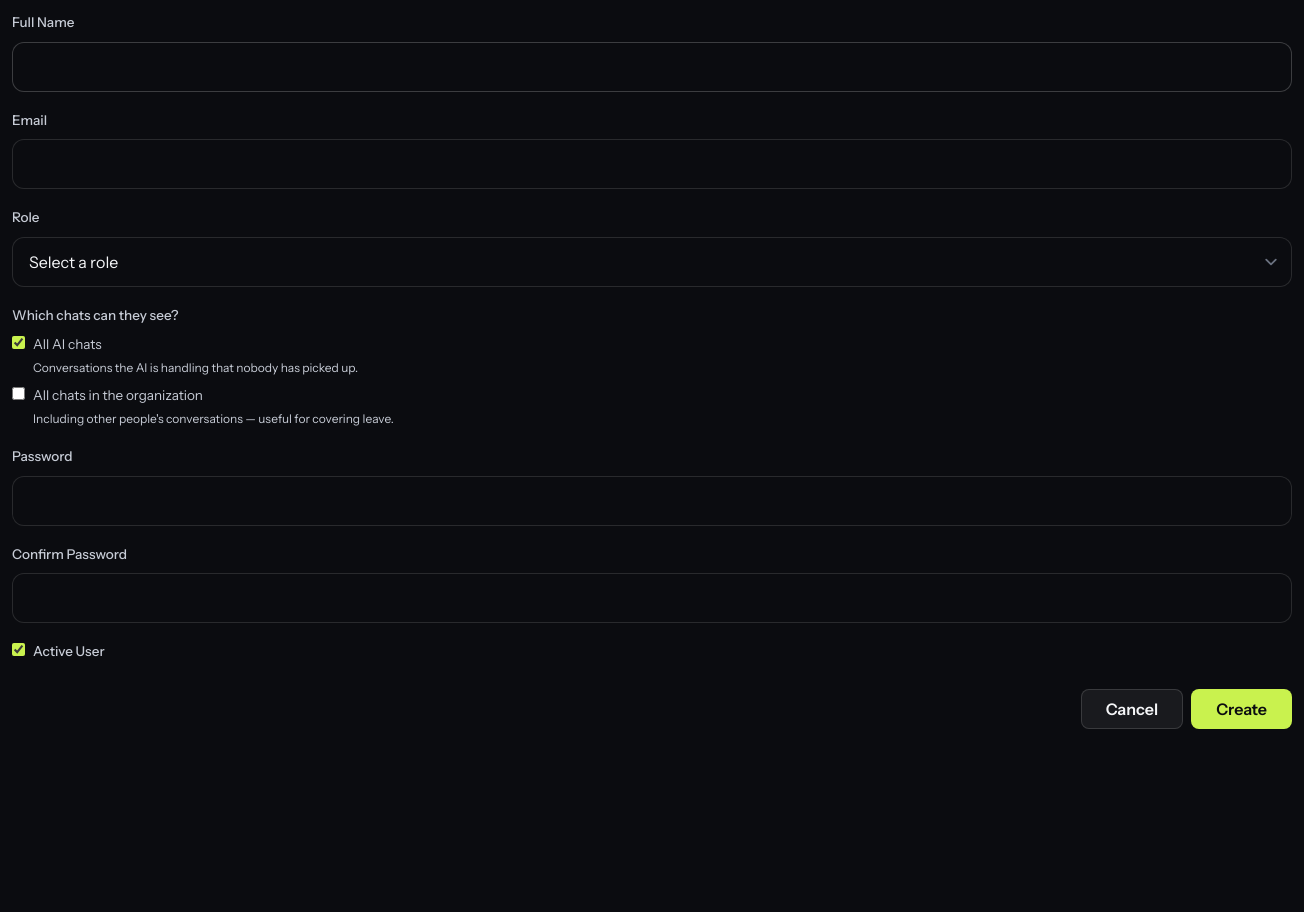
Test case: UserForm – chat scope toggles › unticks both for a role that grants nothing
Select "Agent" in the dropdown with id "role" at [652, 262], box [12, 237, 1292, 287]
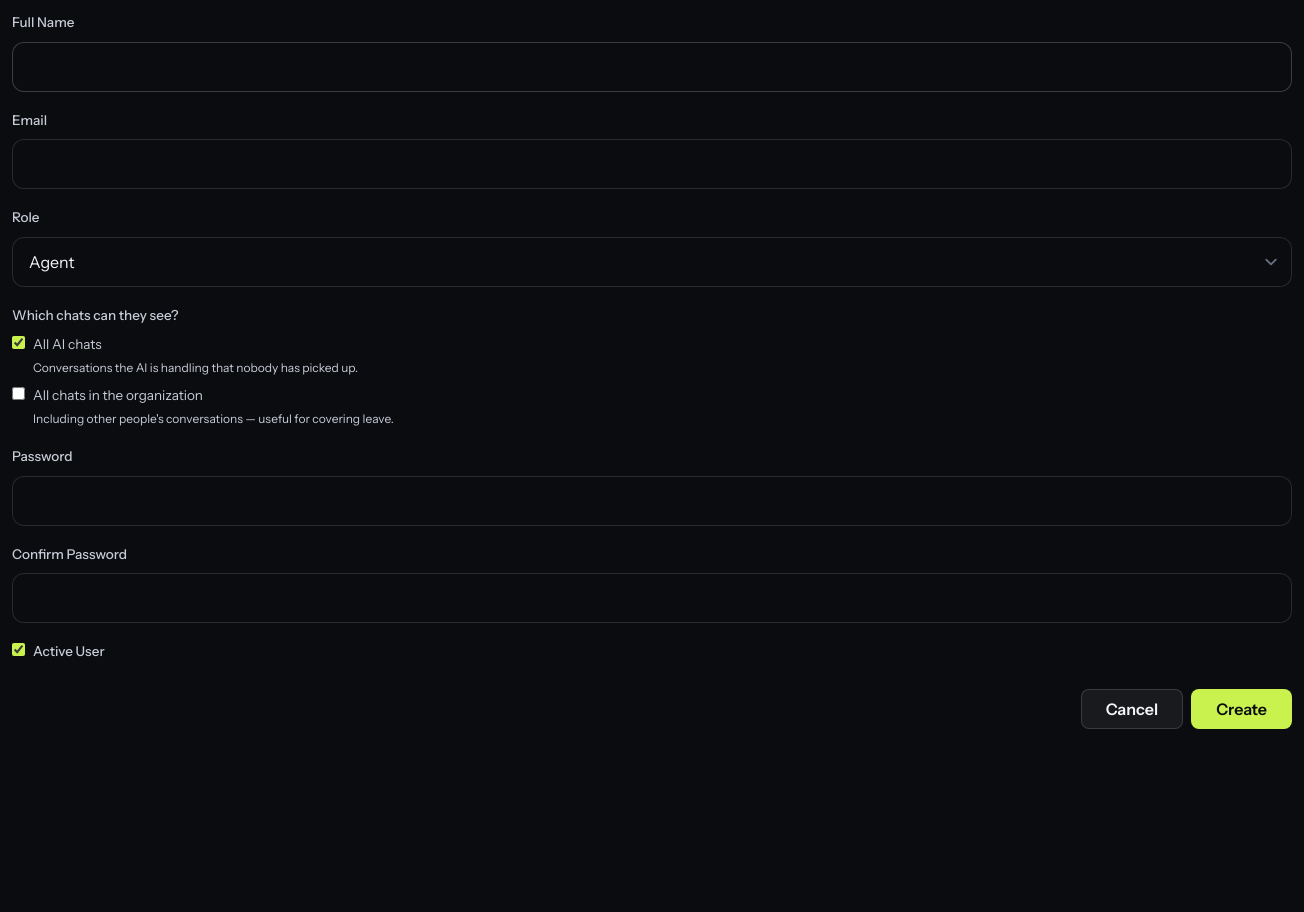
Check: the 1st checkbox is checked, box [12, 336, 25, 349]
Select "Empty" in the dropdown with id "role" at [652, 262], box [12, 237, 1292, 287]
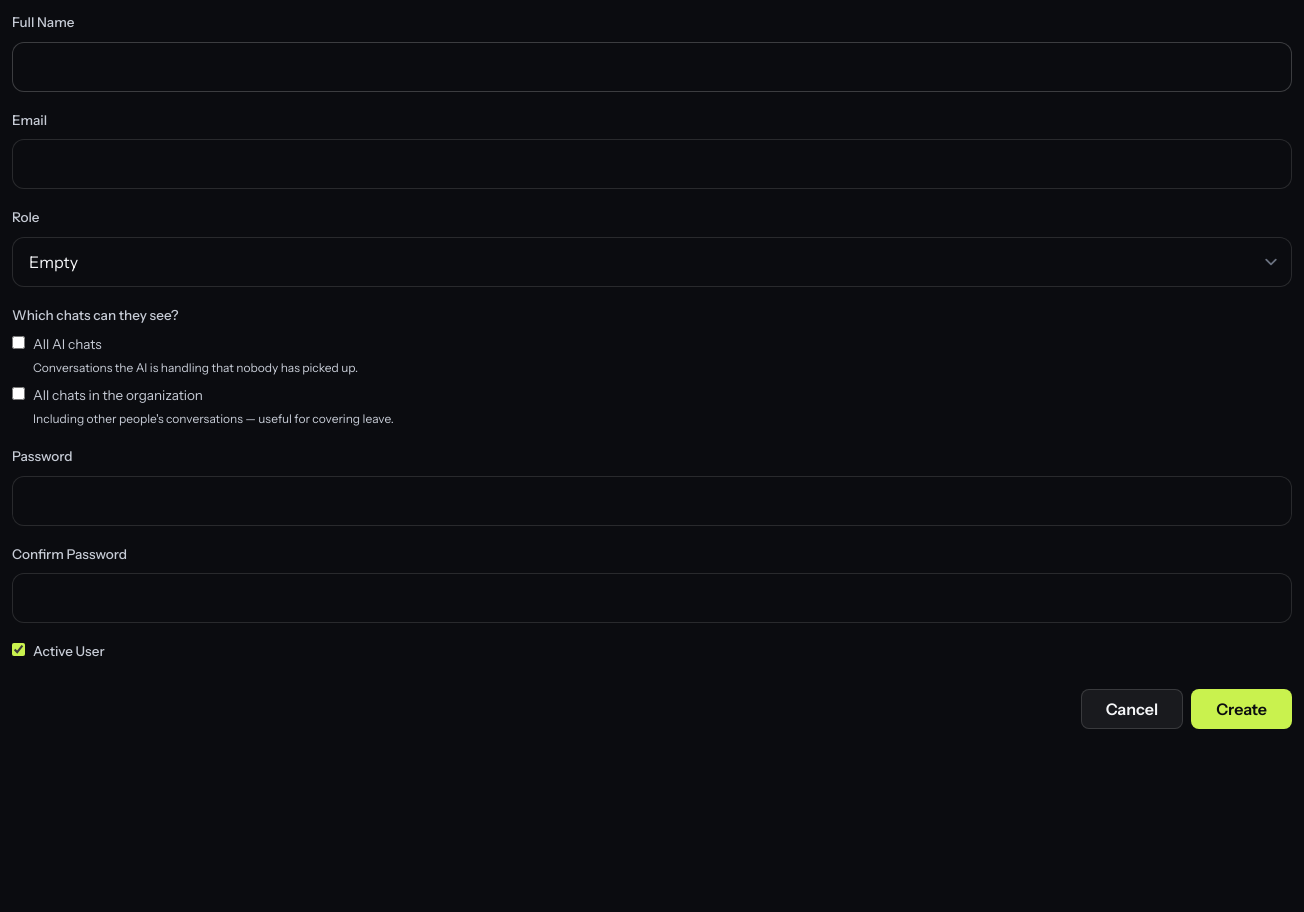
Check: the 2nd checkbox is not checked, box [12, 387, 25, 400]
Check: the 1st checkbox is not checked, box [12, 336, 25, 349]
